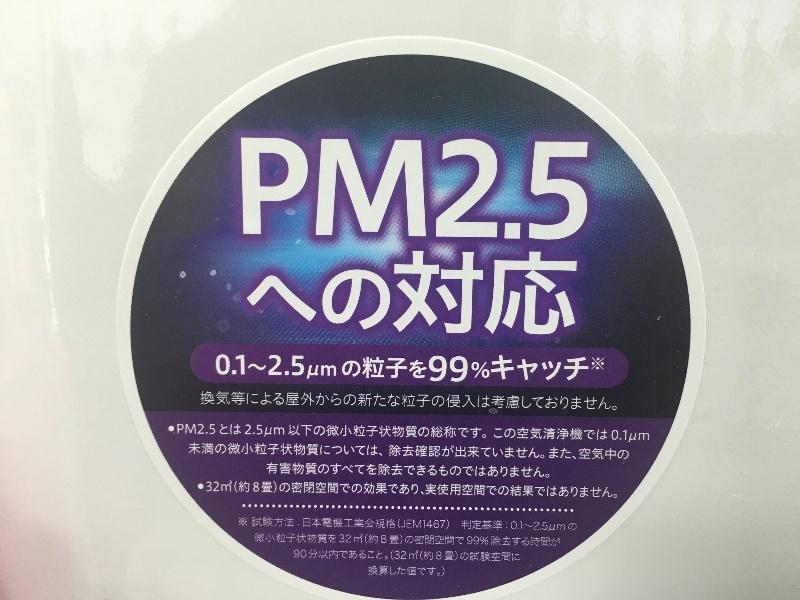text: (241, 136, 256, 242), (257, 136, 272, 242), (273, 136, 288, 242), (289, 136, 304, 242), (305, 136, 320, 242), (321, 136, 336, 242), (337, 136, 352, 242), (353, 136, 368, 242), (369, 136, 384, 242), (385, 136, 400, 242), (401, 136, 416, 242), (417, 136, 432, 242), (433, 136, 448, 242), (449, 136, 464, 242), (465, 136, 480, 242), (481, 136, 496, 242), (497, 136, 512, 242), (513, 136, 528, 242), (529, 136, 544, 242), (545, 136, 560, 242), (561, 136, 576, 242), (577, 136, 590, 242), (257, 250, 272, 337), (273, 250, 288, 337), (289, 250, 304, 337), (305, 250, 320, 337), (321, 250, 336, 337), (337, 250, 352, 337), (353, 250, 368, 337), (369, 250, 384, 337), (385, 250, 400, 337), (401, 250, 416, 337), (417, 250, 432, 337), (433, 250, 448, 337), (449, 250, 464, 337), (465, 250, 480, 337), (481, 250, 496, 337), (497, 250, 512, 337), (513, 250, 528, 337), (529, 250, 544, 337), (545, 250, 560, 337), (561, 250, 576, 337), (245, 250, 256, 337), (225, 348, 240, 385), (241, 348, 256, 385), (257, 348, 272, 385), (273, 348, 288, 385), (289, 348, 304, 385), (305, 348, 320, 385), (321, 348, 336, 385), (337, 348, 352, 385), (353, 348, 368, 385), (369, 348, 384, 385), (385, 348, 400, 385), (401, 348, 416, 385), (417, 348, 432, 385), (433, 348, 448, 385), (449, 348, 464, 385), (465, 348, 480, 385), (481, 348, 496, 385), (497, 348, 512, 385), (513, 348, 528, 385), (529, 348, 544, 385), (545, 348, 560, 385), (561, 348, 576, 385), (577, 348, 590, 385), (577, 250, 582, 337), (209, 390, 224, 415), (225, 390, 240, 415), (241, 390, 256, 415), (257, 390, 272, 415), (273, 390, 288, 415), (289, 390, 304, 415), (305, 390, 320, 415), (321, 390, 336, 415), (337, 390, 352, 415), (353, 390, 368, 415), (369, 390, 384, 415), (385, 390, 400, 415), (401, 390, 416, 415), (417, 390, 432, 415), (433, 390, 448, 415), (449, 390, 464, 415), (465, 390, 480, 415), (481, 390, 496, 415), (497, 390, 512, 415), (513, 390, 528, 415), (529, 390, 544, 415), (545, 390, 560, 415), (561, 390, 576, 415), (577, 390, 592, 415), (593, 390, 608, 415), (215, 348, 224, 385), (209, 481, 224, 502), (225, 481, 240, 502), (241, 481, 256, 502), (257, 481, 272, 502), (273, 481, 288, 502), (289, 481, 304, 502), (305, 481, 320, 502), (321, 481, 336, 502), (337, 481, 352, 502), (353, 481, 368, 502), (369, 481, 384, 502), (385, 481, 400, 502), (401, 481, 416, 502), (417, 481, 432, 502), (433, 481, 448, 502), (449, 481, 464, 502), (465, 481, 480, 502), (481, 481, 496, 502), (497, 481, 512, 502), (513, 481, 528, 502), (529, 481, 544, 502), (545, 481, 560, 502), (561, 481, 576, 502), (577, 481, 592, 502), (593, 481, 608, 502), (177, 423, 192, 442), (193, 423, 208, 442), (209, 423, 224, 442), (225, 423, 240, 442), (241, 423, 256, 442), (257, 423, 272, 442), (273, 423, 288, 442), (289, 423, 304, 442), (305, 423, 320, 442), (321, 423, 336, 442), (337, 423, 352, 442), (353, 423, 368, 442), (369, 423, 384, 442), (385, 423, 400, 442), (401, 423, 416, 442), (417, 423, 432, 442), (433, 423, 448, 442), (449, 423, 464, 442), (465, 423, 480, 442), (273, 462, 288, 480), (289, 462, 304, 480), (305, 462, 320, 480), (321, 462, 336, 480), (337, 462, 352, 480), (353, 462, 368, 480), (369, 462, 384, 480), (385, 462, 400, 480), (401, 462, 416, 480), (417, 462, 432, 480), (433, 462, 448, 480), (449, 462, 464, 480), (465, 462, 480, 480), (481, 462, 496, 480), (497, 462, 512, 480), (513, 462, 528, 480), (529, 462, 544, 480), (401, 444, 416, 461), (417, 444, 432, 461), (433, 444, 448, 461), (449, 444, 464, 461), (465, 444, 480, 461), (481, 444, 496, 461), (497, 444, 512, 461), (513, 444, 528, 461), (529, 444, 544, 461), (609, 390, 619, 415), (433, 516, 449, 531), (497, 427, 512, 442), (513, 427, 528, 442), (529, 427, 544, 442), (545, 427, 560, 442), (561, 427, 576, 442), (577, 427, 592, 442), (593, 427, 608, 442), (609, 427, 624, 442), (625, 427, 640, 442), (193, 442, 208, 457), (209, 442, 224, 457), (225, 442, 240, 457), (241, 442, 256, 457), (257, 442, 272, 457), (273, 442, 288, 457), (289, 442, 304, 457), (305, 442, 320, 457), (321, 442, 336, 457), (337, 442, 352, 457), (353, 442, 368, 457), (369, 442, 384, 457), (257, 516, 272, 531), (273, 516, 288, 531), (289, 516, 304, 531), (305, 516, 320, 531), (321, 516, 336, 531), (337, 516, 352, 531), (353, 516, 368, 531), (369, 516, 384, 531), (385, 516, 400, 531), (401, 516, 416, 531), (417, 516, 432, 531), (609, 481, 619, 502), (257, 534, 272, 548), (273, 534, 288, 548), (289, 534, 304, 548), (305, 534, 320, 548), (321, 534, 336, 548), (337, 534, 352, 548), (353, 534, 368, 548), (369, 534, 384, 548), (385, 534, 400, 548), (401, 534, 416, 548), (417, 534, 432, 548), (433, 534, 448, 548), (449, 534, 464, 548), (465, 534, 480, 548), (481, 534, 496, 548), (497, 534, 512, 548), (513, 534, 528, 548), (529, 534, 544, 548), (545, 534, 560, 548), (561, 447, 577, 460), (561, 519, 577, 532), (593, 448, 608, 461), (609, 448, 624, 461), (465, 519, 480, 532), (481, 519, 496, 532), (497, 519, 512, 532), (513, 519, 528, 532), (529, 519, 544, 532), (545, 519, 560, 532), (401, 549, 416, 562), (417, 549, 432, 562), (433, 549, 448, 562), (449, 549, 464, 562), (465, 549, 480, 562), (481, 549, 496, 562), (497, 549, 512, 562), (389, 444, 400, 461), (305, 549, 320, 561), (321, 549, 336, 561), (337, 549, 352, 561), (353, 549, 368, 561), (369, 549, 384, 561), (369, 565, 384, 577), (385, 565, 400, 577), (401, 565, 416, 577), (417, 565, 432, 577), (201, 390, 208, 415), (579, 448, 592, 461), (433, 565, 445, 577), (549, 447, 560, 460), (641, 427, 649, 442), (294, 549, 304, 561), (391, 549, 400, 562), (481, 423, 487, 442), (266, 462, 272, 480), (545, 462, 551, 480), (513, 549, 521, 562), (251, 516, 256, 531), (625, 448, 630, 461), (205, 481, 208, 502), (385, 549, 389, 561), (189, 442, 192, 457), (494, 427, 496, 442), (462, 519, 464, 532), (545, 444, 546, 461), (255, 534, 256, 548), (561, 534, 562, 548)
